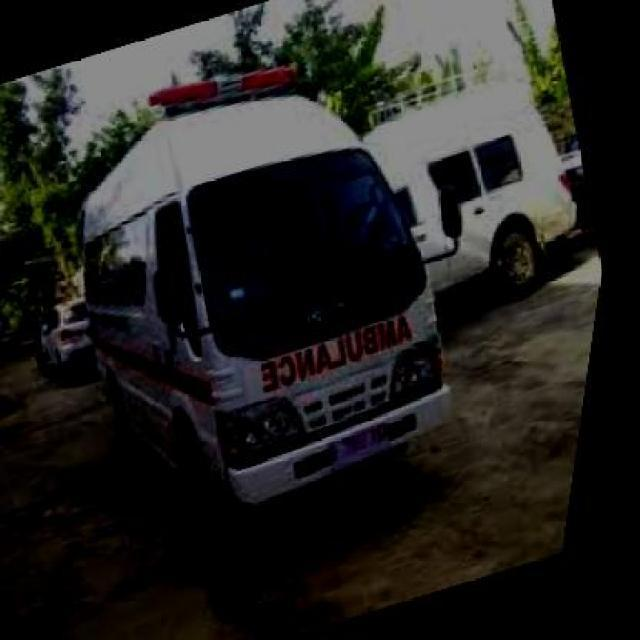emergency-vehicle: (10, 19, 522, 556)
